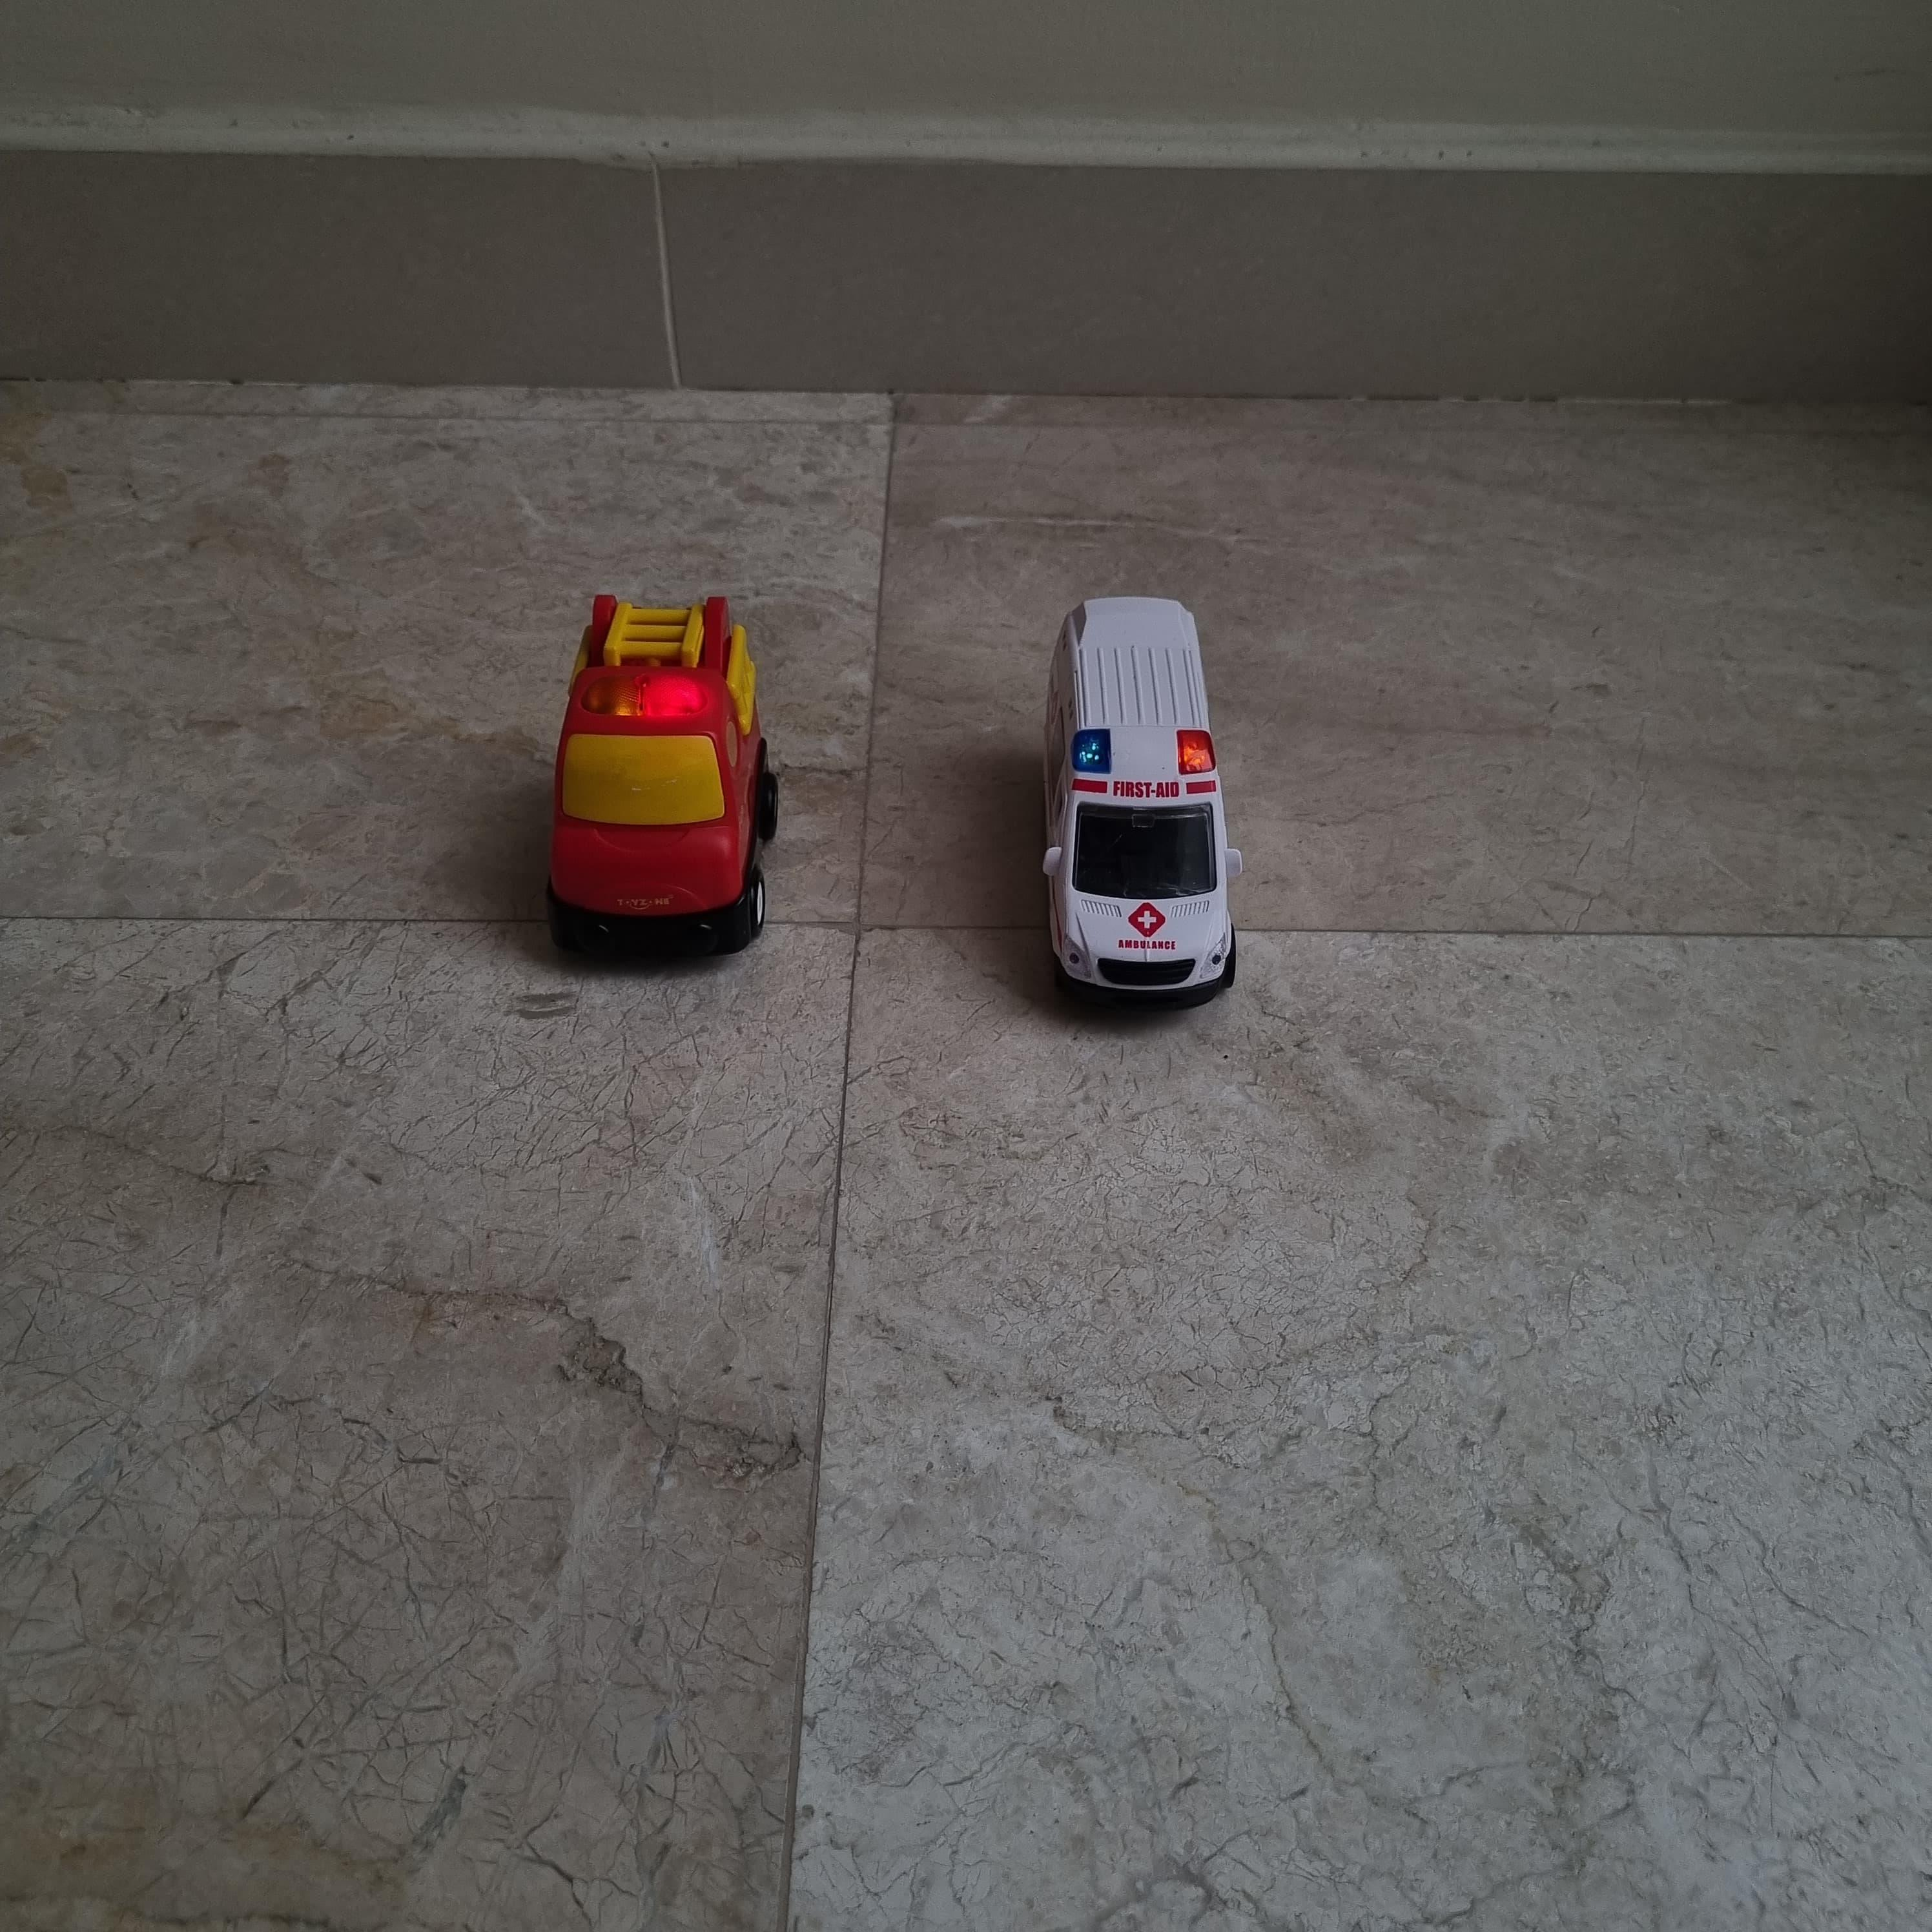ambulance_on: (1040, 600, 1244, 1008)
firetruck_on: (545, 594, 780, 957)
